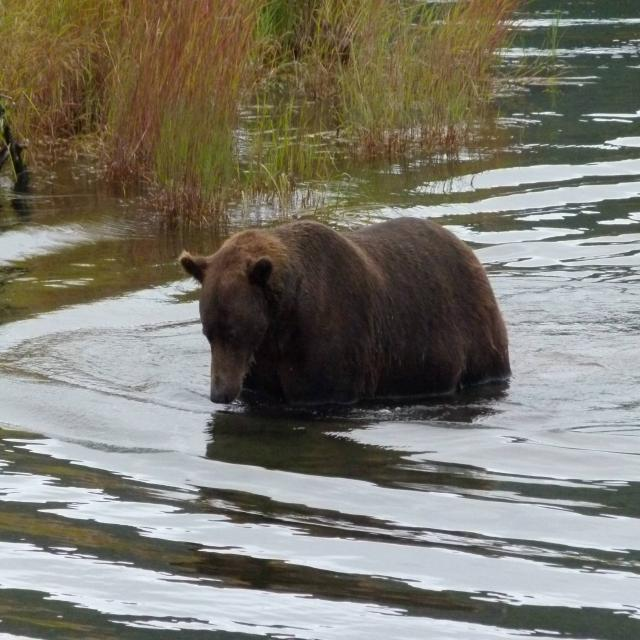bear face: (179, 219, 510, 406)
